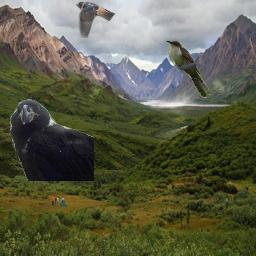Crow: (9, 99, 94, 181)
Cuckoo: (165, 39, 210, 98)
Swallow: (76, 0, 116, 38)
